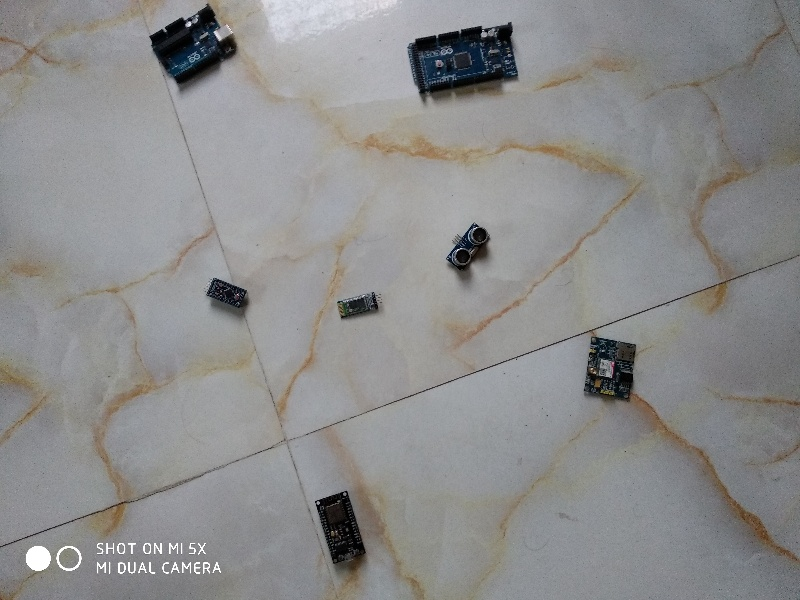Arduino Mega 2560: (403, 20, 527, 102)
Arduino Pro Mini: (202, 273, 250, 314)
Arduino UNO: (145, 1, 246, 89)
HC-05: (334, 291, 384, 321)
NodeMCU: (312, 488, 376, 571)
SIM800: (580, 332, 641, 408)
Sonar Sensor: (443, 220, 496, 273)
